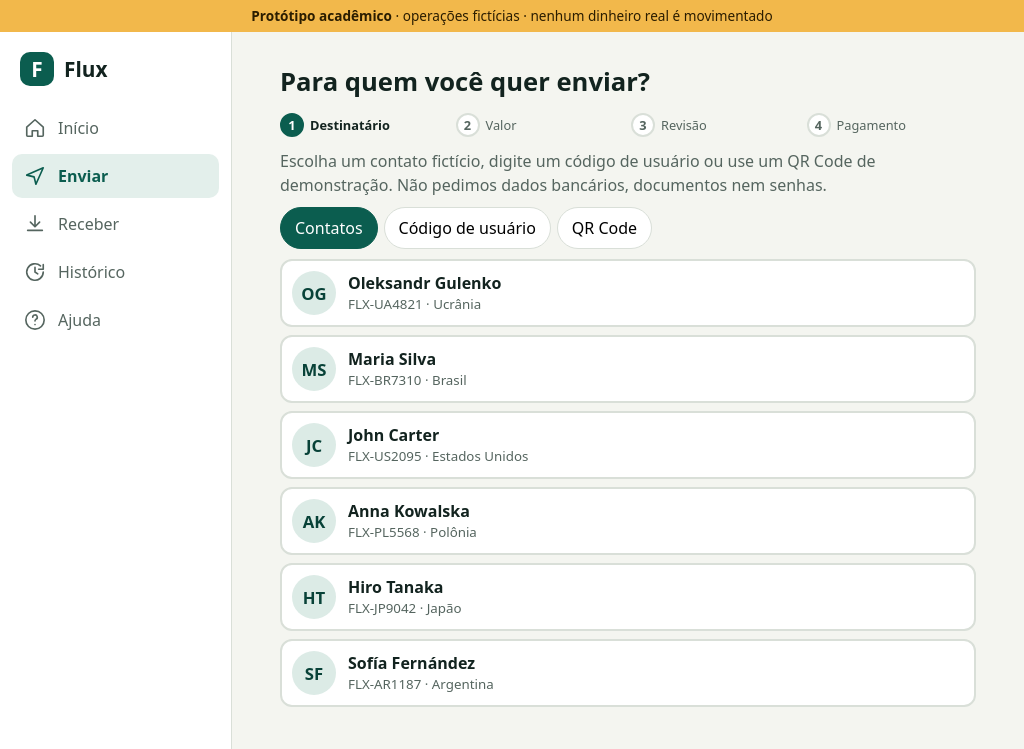
Scenario: fluxo de envio completo › valida o valor e bloqueia países iguais
Click the button "MS Maria Silva FLX-BR7310 · Brasil".
click(314, 369)  # box top-left (280, 336), bottom-right (976, 404)
(page scrolled)
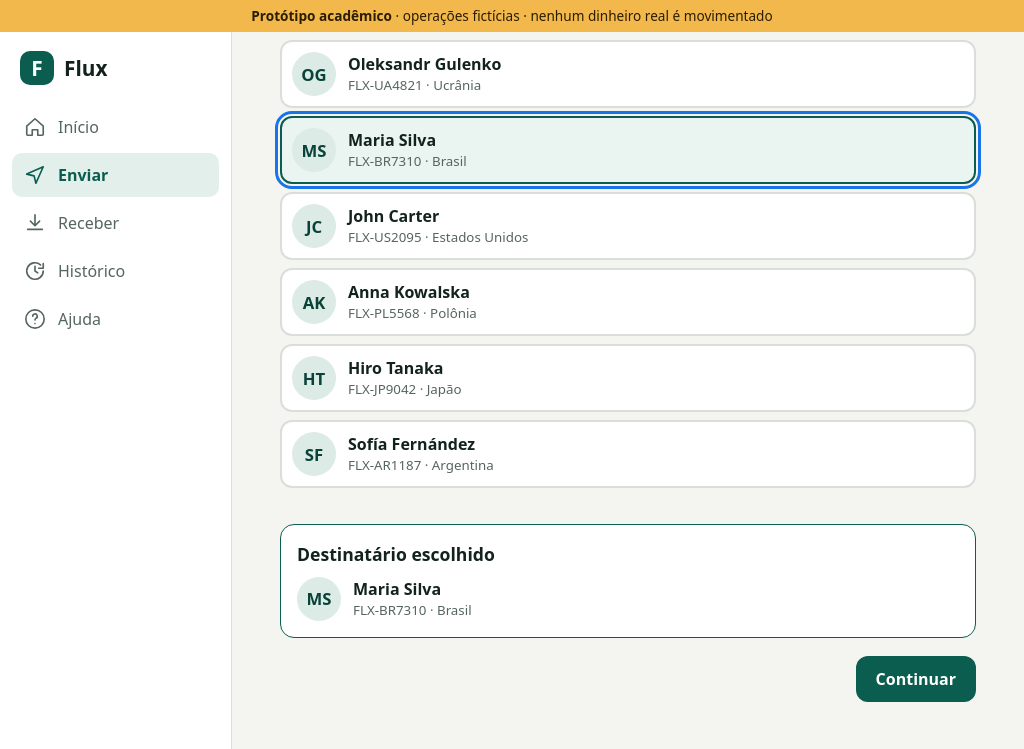
Click the button "Continuar".
click(916, 679)  # box top-left (856, 656), bottom-right (976, 702)
(page scrolled)
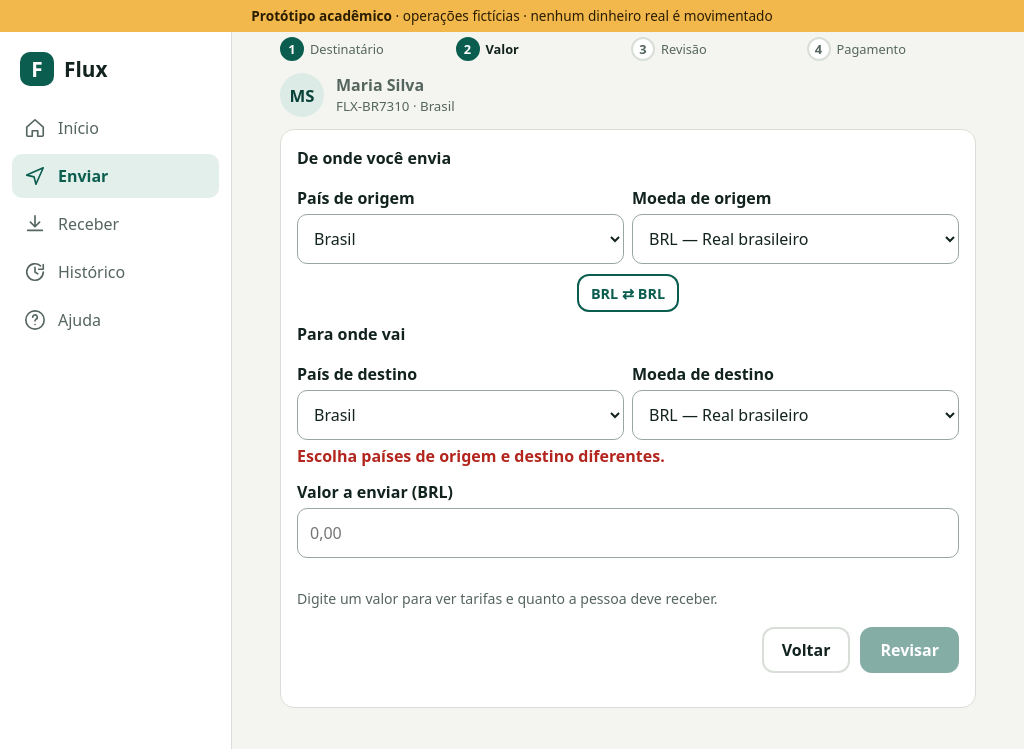
Type "180" into the field labelled "Valor a enviar (BRL)".
click(628, 534); type("180")  # box top-left (297, 508), bottom-right (959, 558)
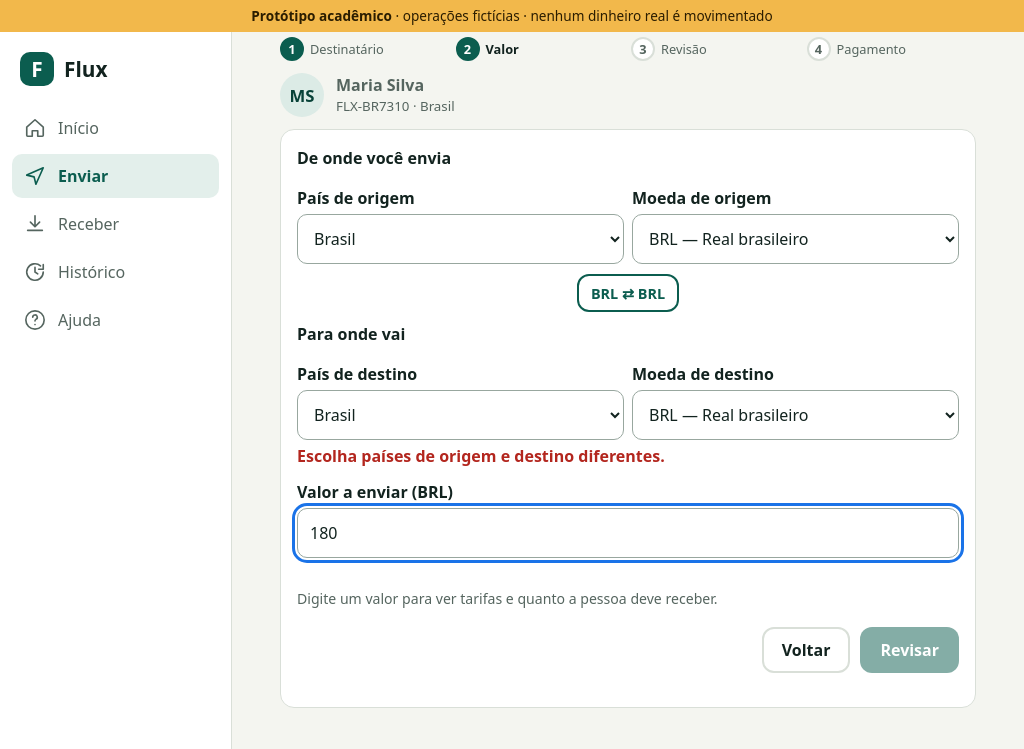
Check: the text "Escolha países de origem e destino diferentes." is shown, box top-left (297, 446), bottom-right (665, 468)
Check: the button "Revisar" is disabled, box top-left (860, 627), bottom-right (959, 673)
Select "Estados Unidos" in the dropdown labelled "País de destino" at coordinates (460, 416), box top-left (297, 390), bottom-right (624, 440)
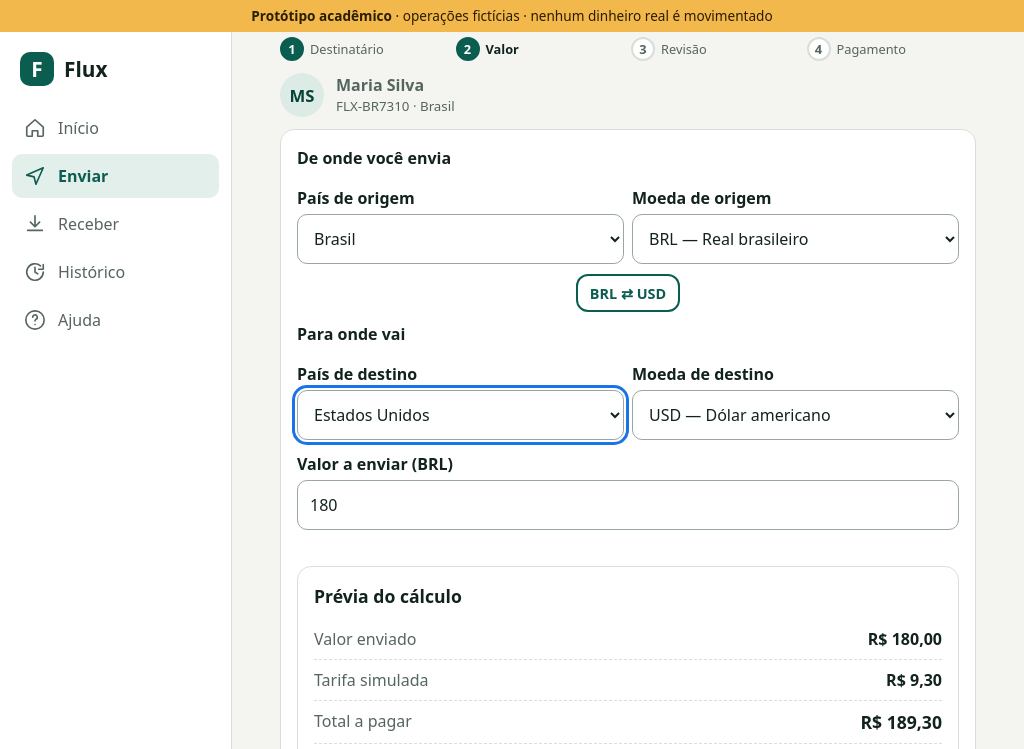
Clear the field labelled "Valor a enviar (BRL)" at coordinates (628, 506), box top-left (297, 480), bottom-right (959, 530)
(page scrolled)
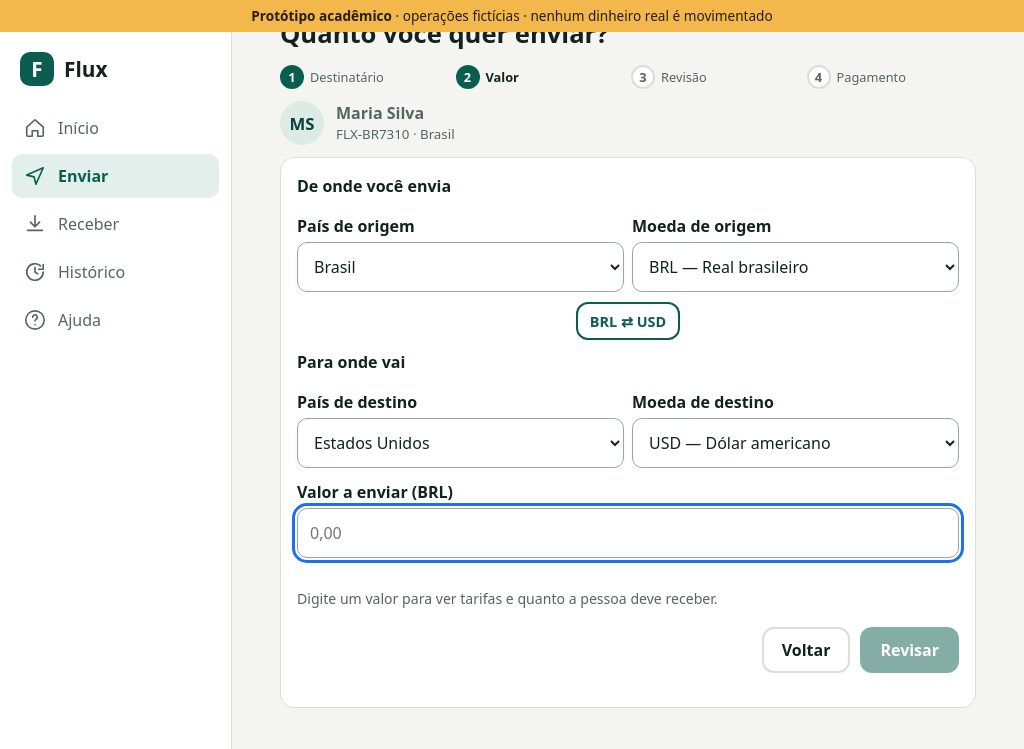
Type "1" into the field labelled "Valor a enviar (BRL)".
click(628, 534); type("1")  # box top-left (297, 508), bottom-right (959, 558)
(page scrolled)
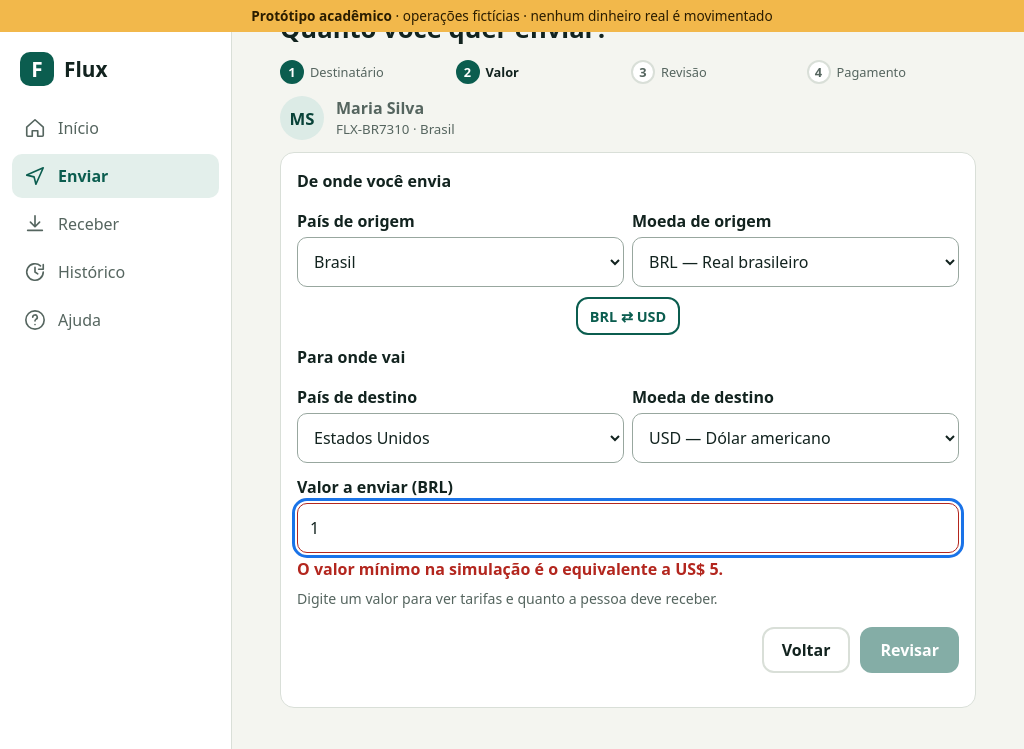
Check: the button "Revisar" is disabled, box top-left (860, 627), bottom-right (959, 673)
Check: the text "O valor mínimo na simulação é o equivalente a US$ 5." is shown, box top-left (297, 558), bottom-right (723, 580)
